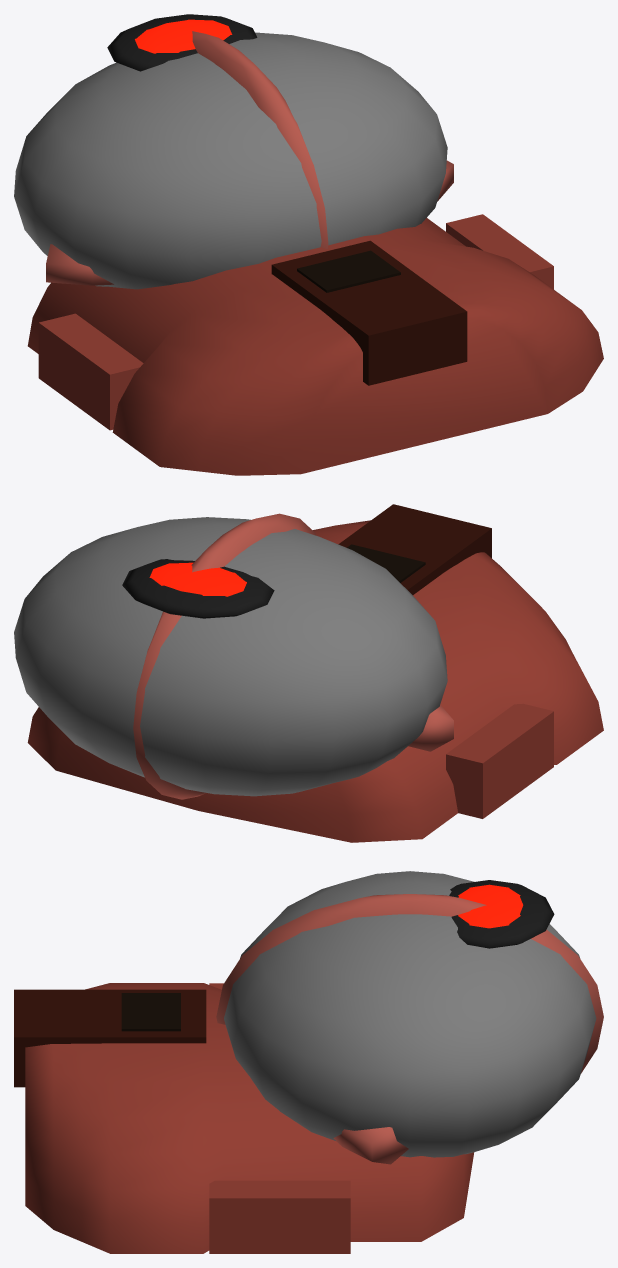
Rendered from newshc-77-f5.glb.
3 views of the same model, one above another, from view 1: azimuth 30°, elevation 25°; view 2: azimuth 150°, elevation 25°; view 3: azimuth 270°, elevation 25° (orthographic).
Parts seen in each view (by area): view 1: newshc-77-f5; view 2: newshc-77-f5; view 3: newshc-77-f5.
Boxes of the visible parts, x1,y1,x2,y2 form: newshc-77-f5: (14,14,603,475); newshc-77-f5: (14,504,603,842); newshc-77-f5: (14,871,603,1253).
Size of the model in its own units: 1.5 by 0.82 by 1.74.
